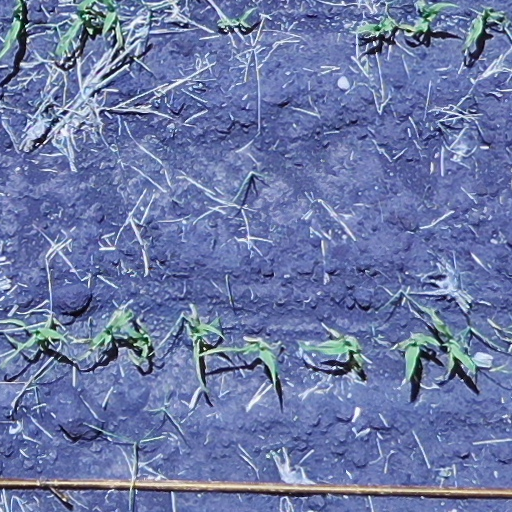planta: (422, 307, 478, 377), (187, 317, 224, 388), (217, 342, 276, 385), (299, 334, 364, 367), (88, 310, 135, 350), (463, 8, 504, 48), (407, 334, 442, 378), (412, 1, 458, 34), (9, 327, 65, 348), (124, 326, 151, 366), (358, 17, 411, 37), (217, 7, 257, 28)
